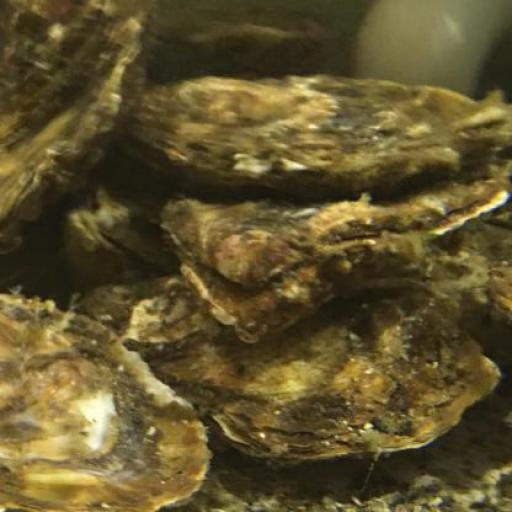Oyster-Closed: (72, 285, 497, 455), (120, 79, 512, 202), (1, 306, 207, 512), (1, 1, 149, 253)
Oyster-Open: (175, 179, 512, 341)
